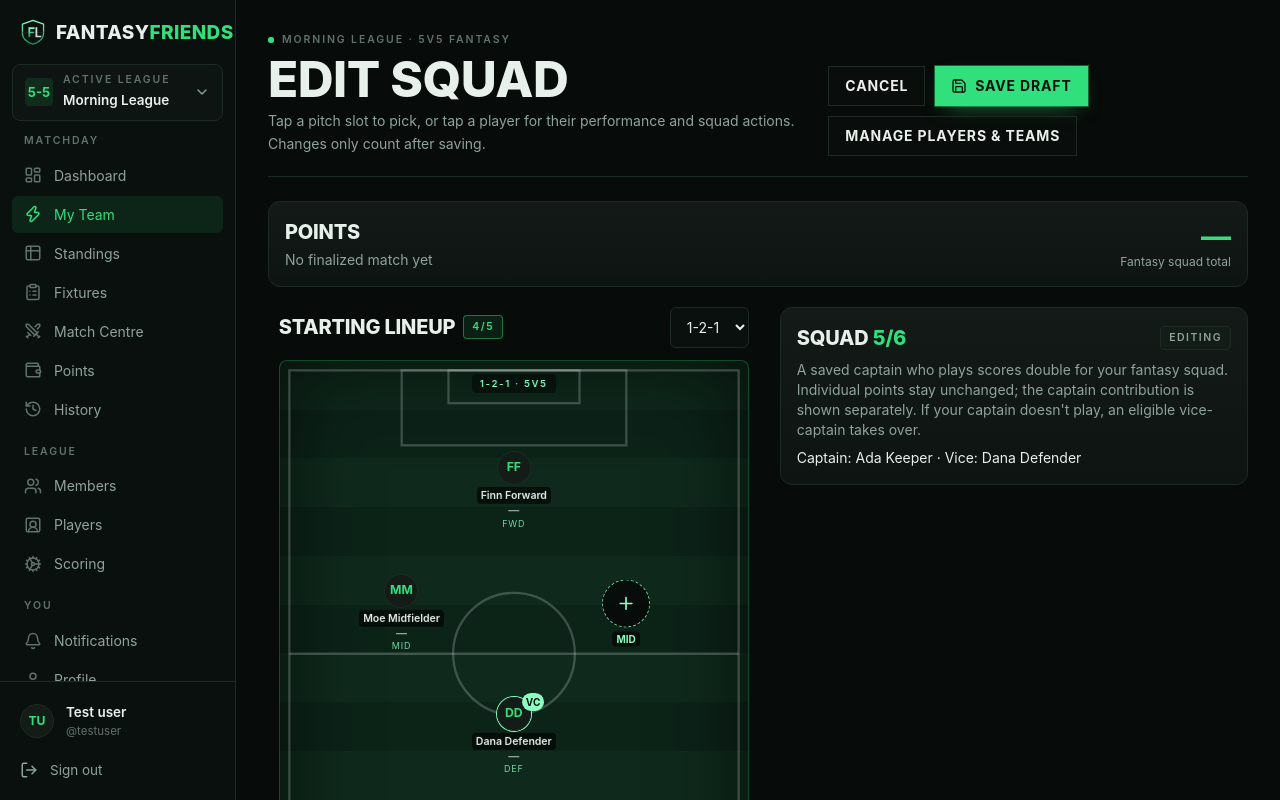
Test: squad screen HTTP contract › replaces DEF with only eligible same-position players and persists in the same slot
The width and height of the screenshot is (1280, 800).
Earlier steps of the test are not shown.
Later steps or results of the test are not shown.
Click the button with aria-label "Dana Defender, DEF".
click(514, 736)  # box top-left (294, 696), bottom-right (734, 775)
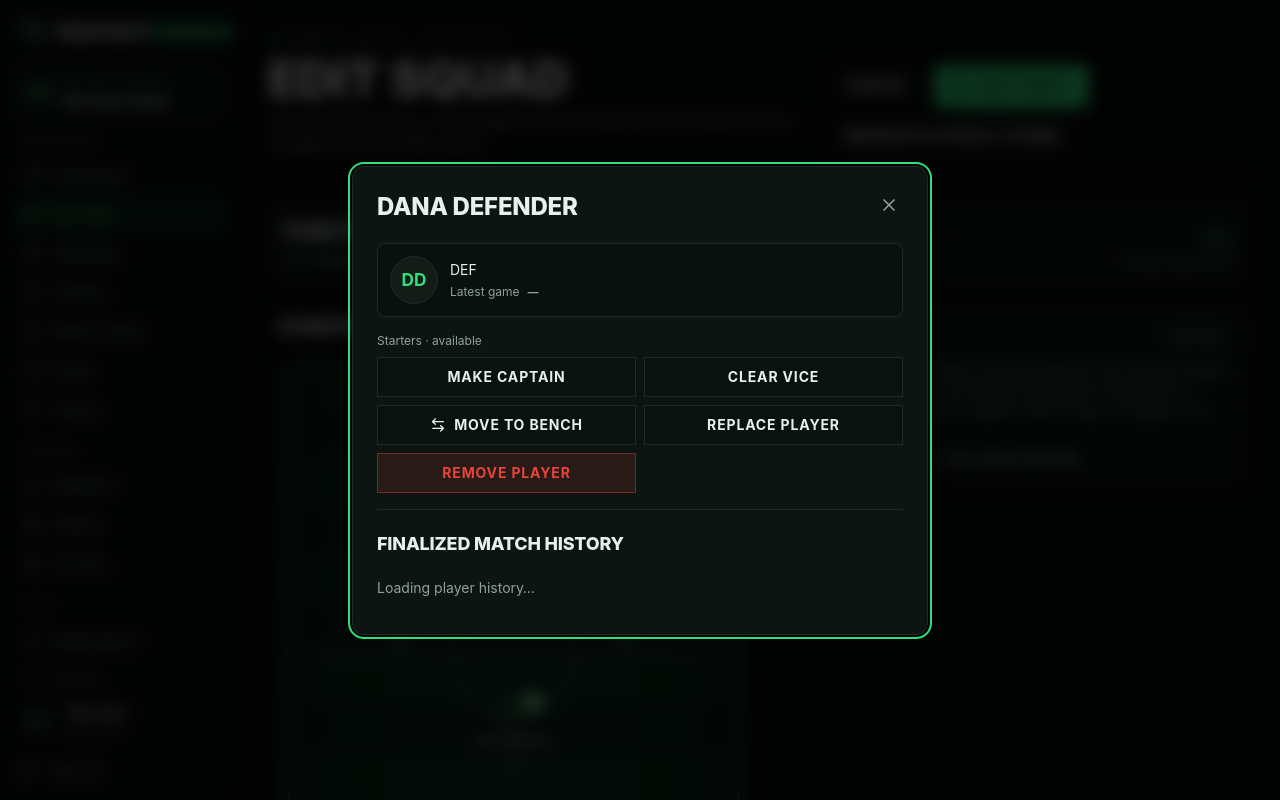
Click the button "Replace player".
click(774, 424)  # box top-left (644, 404), bottom-right (903, 444)
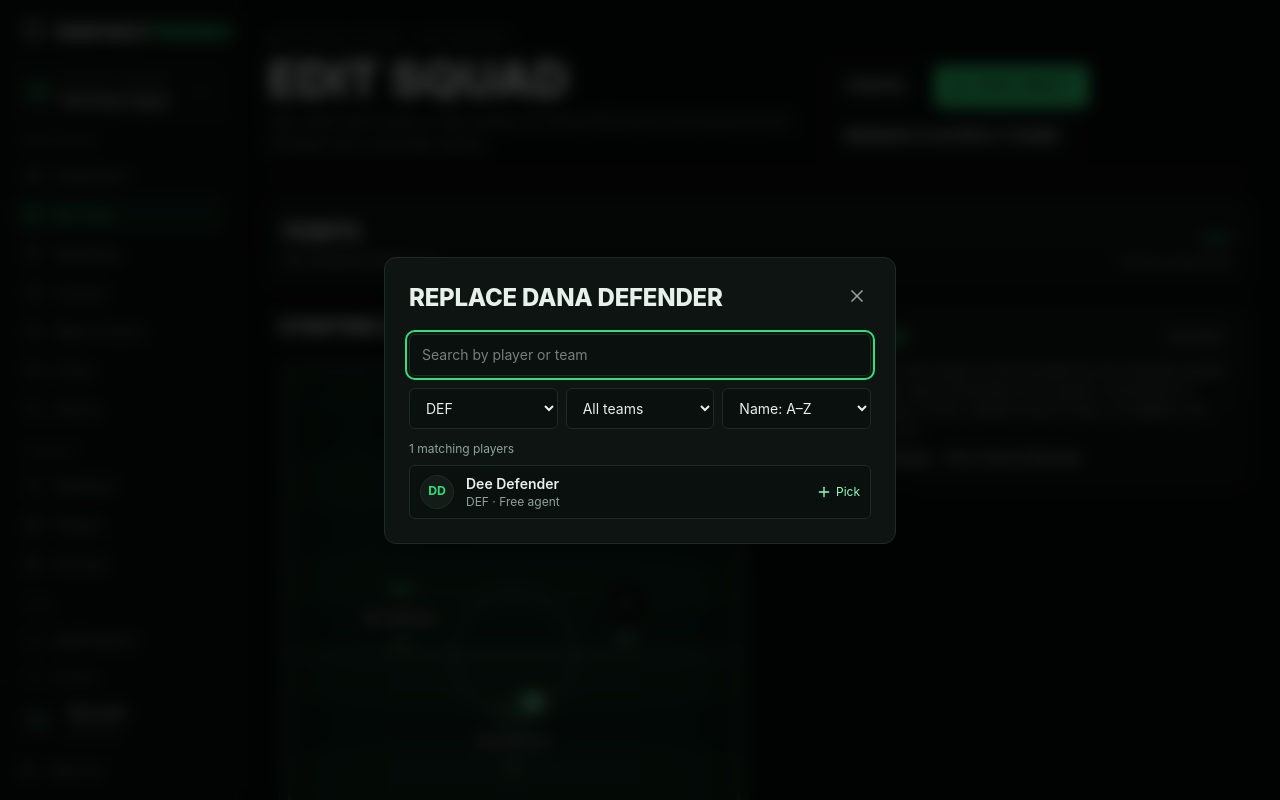
Type "does-not-exist" into the search field.
click(640, 354); type("does-not-exist")  # box top-left (409, 334), bottom-right (871, 376)
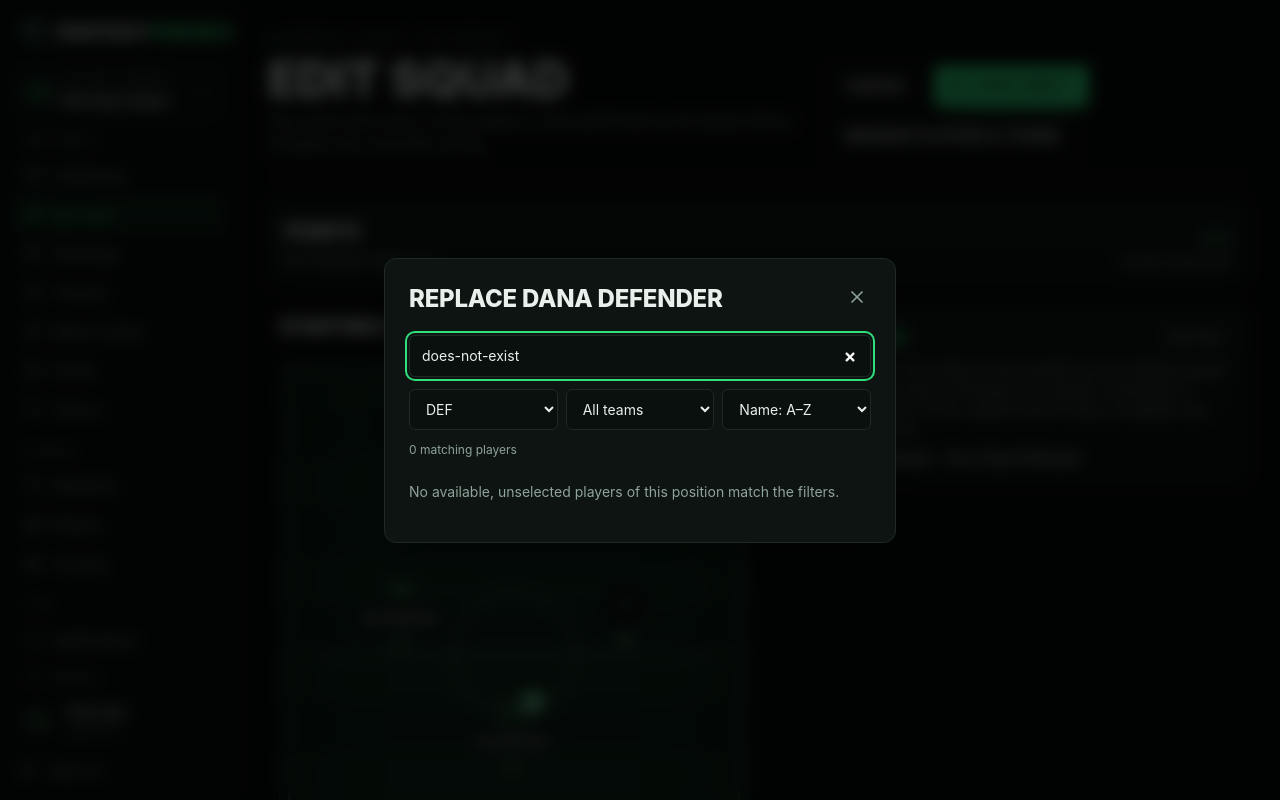
Expected: the text "No available, unselected players" is shown, top-left (409, 482), bottom-right (839, 500)
Clear the search field at [640, 356], box top-left (409, 334), bottom-right (871, 376)
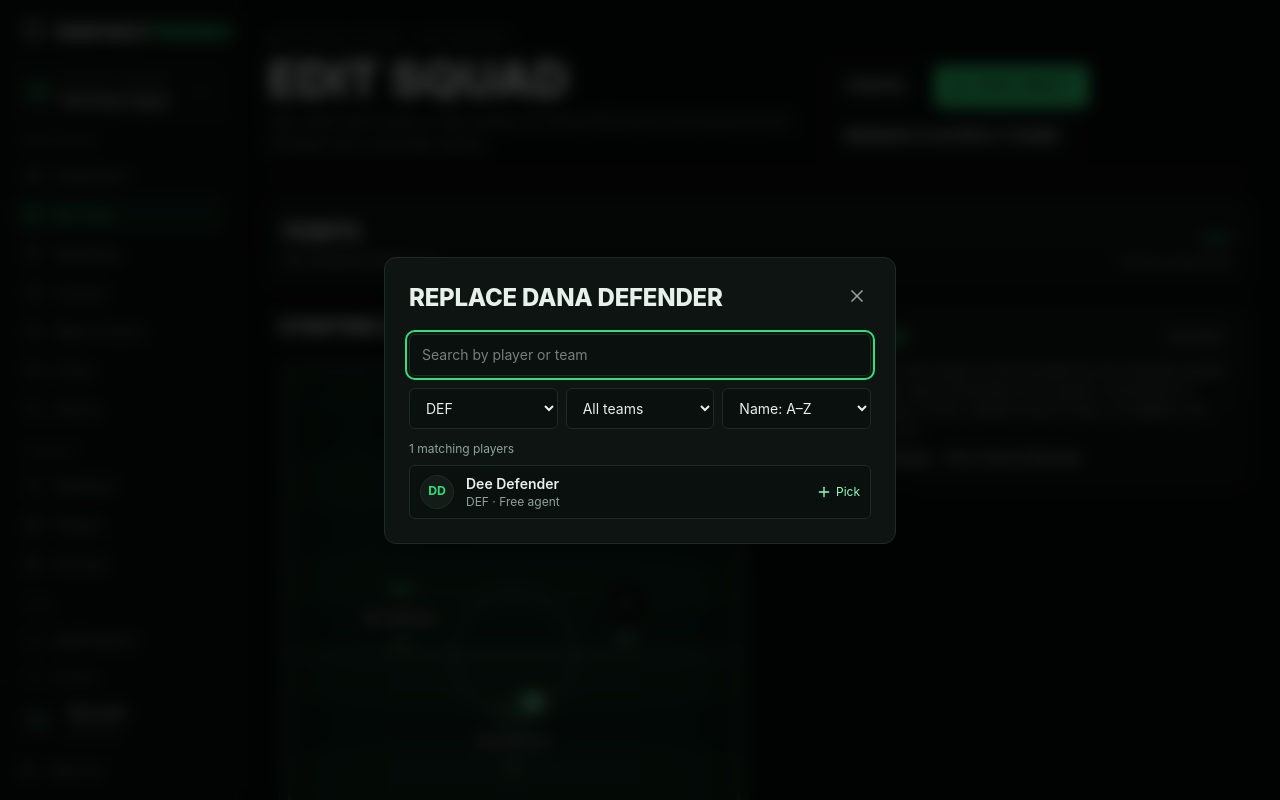
Expected: the button "DD Dee Defender DEF · Free agent Pick" is shown
Click the button "DD Dee Defender DEF · Free agent Pick".
click(437, 492)  # box top-left (409, 464), bottom-right (871, 518)
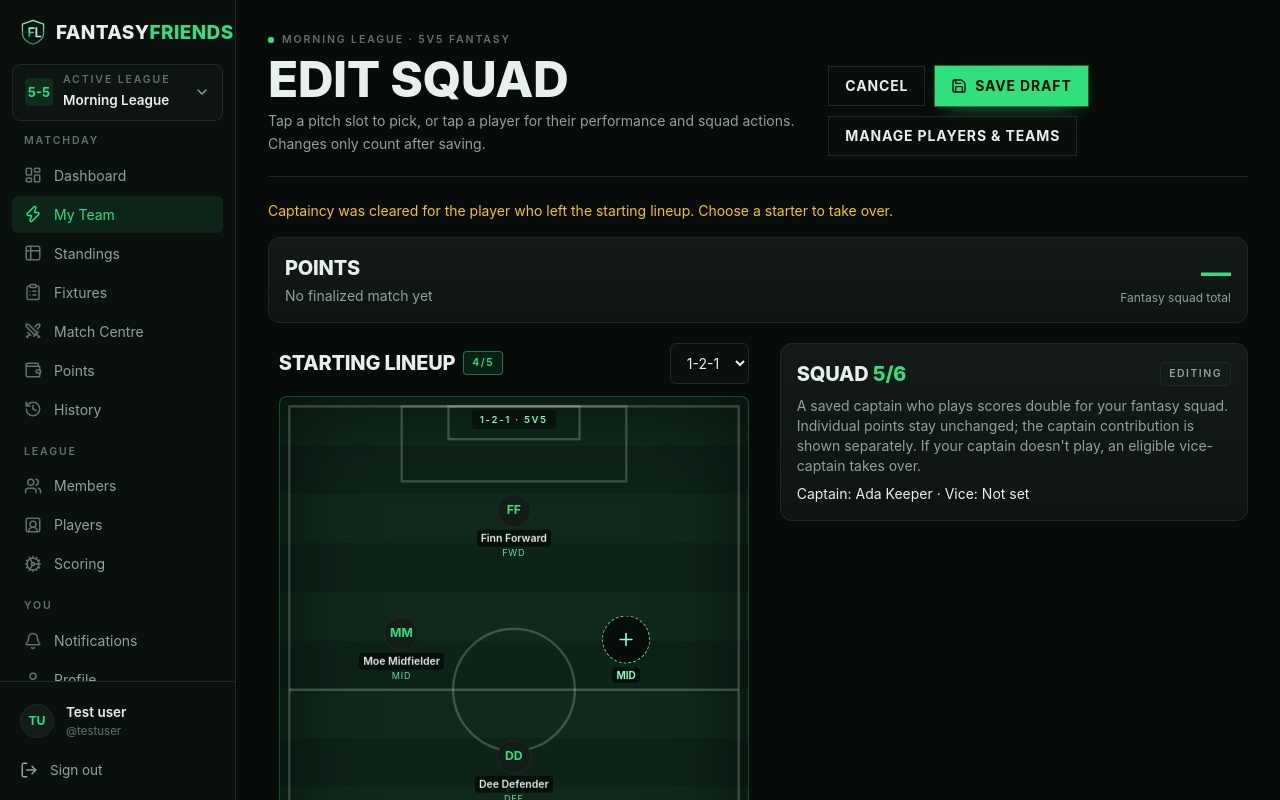
Expected: the dropdown named "Formation" shows "1-2-1", top-left (670, 343), bottom-right (749, 384)
Click the button "Save draft".
click(1011, 86)  # box top-left (935, 66), bottom-right (1088, 106)
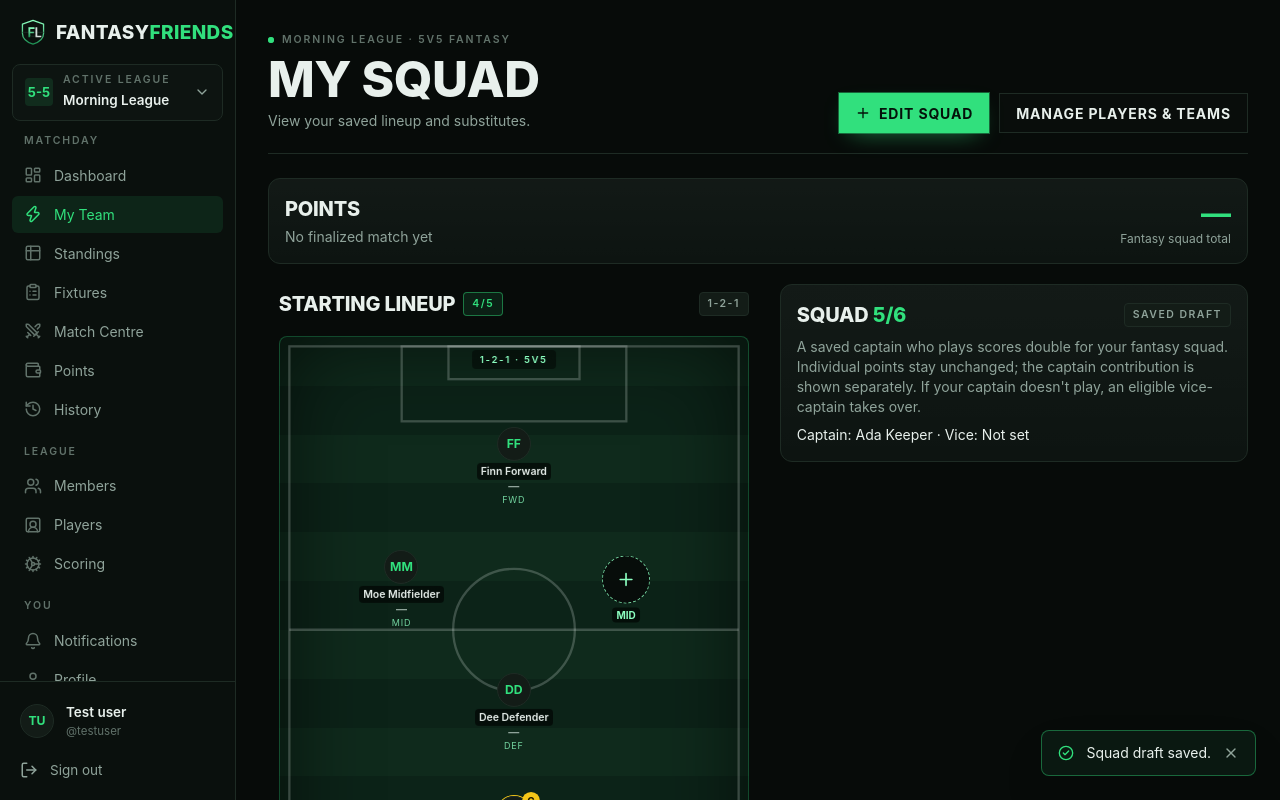
Expected: the text "Squad draft saved." is shown, top-left (1086, 743), bottom-right (1211, 763)
